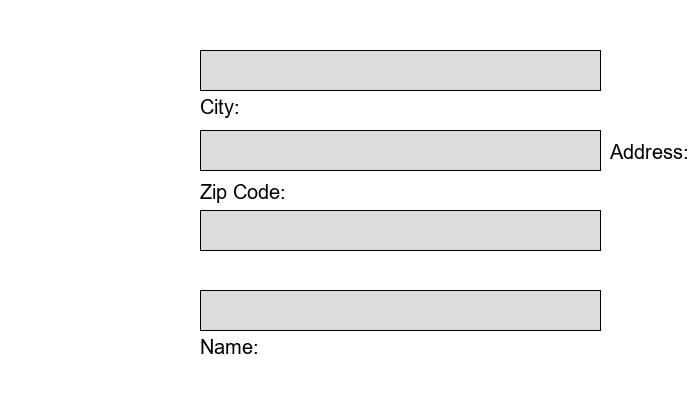Label: (200, 180, 280, 199), (610, 140, 684, 155), (200, 335, 253, 350), (200, 95, 234, 114)
Textbox: (200, 50, 600, 90), (200, 130, 600, 170), (200, 210, 600, 250), (200, 290, 600, 330)
